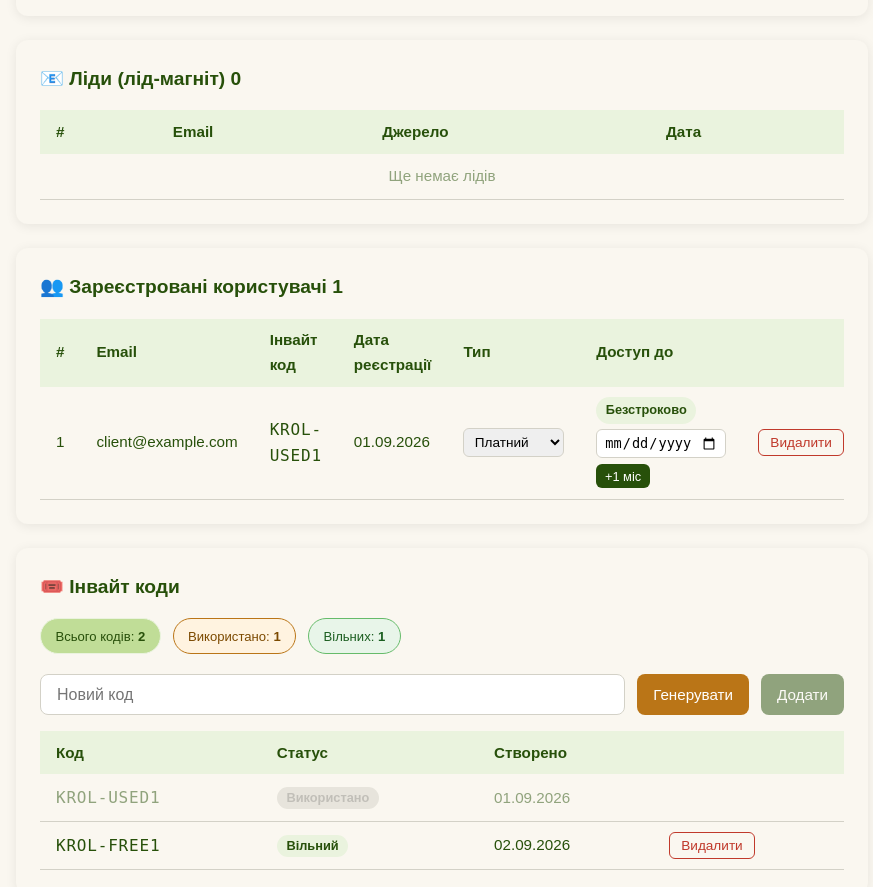
Admin: видалення користувача › помилка звільнення коду: повідомляє, що користувача видалено, а код ні
(page scrolled)
Click the button "Видалити" in the row of "client@example.com": (801, 443) [758,429,844,456]
(page scrolled)
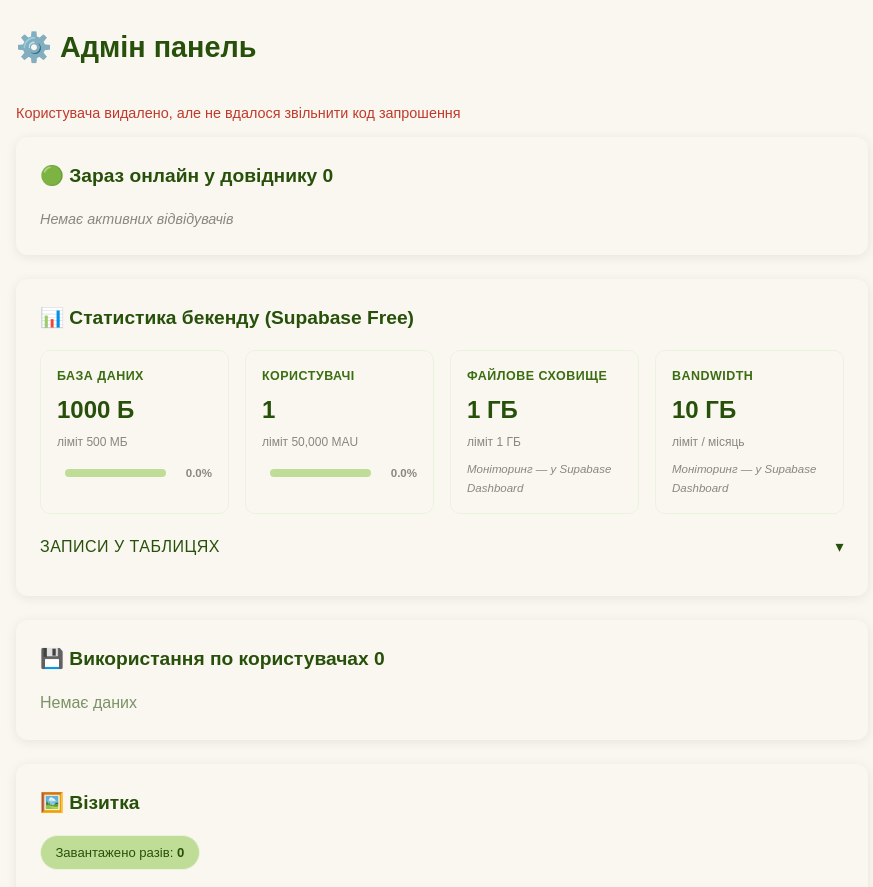
Check: the text "Користувача видалено, але не вдалося звільнити код запрошення" is shown, box [16,105,461,121]
